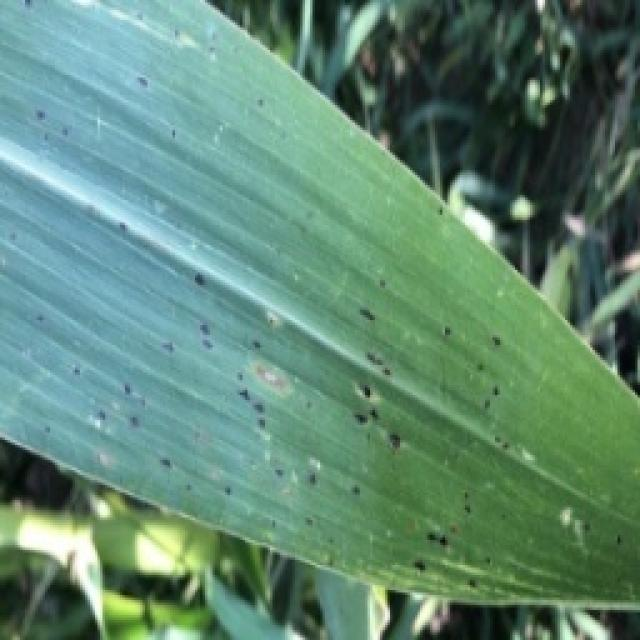Tar_Spot: (111, 284, 567, 598)
